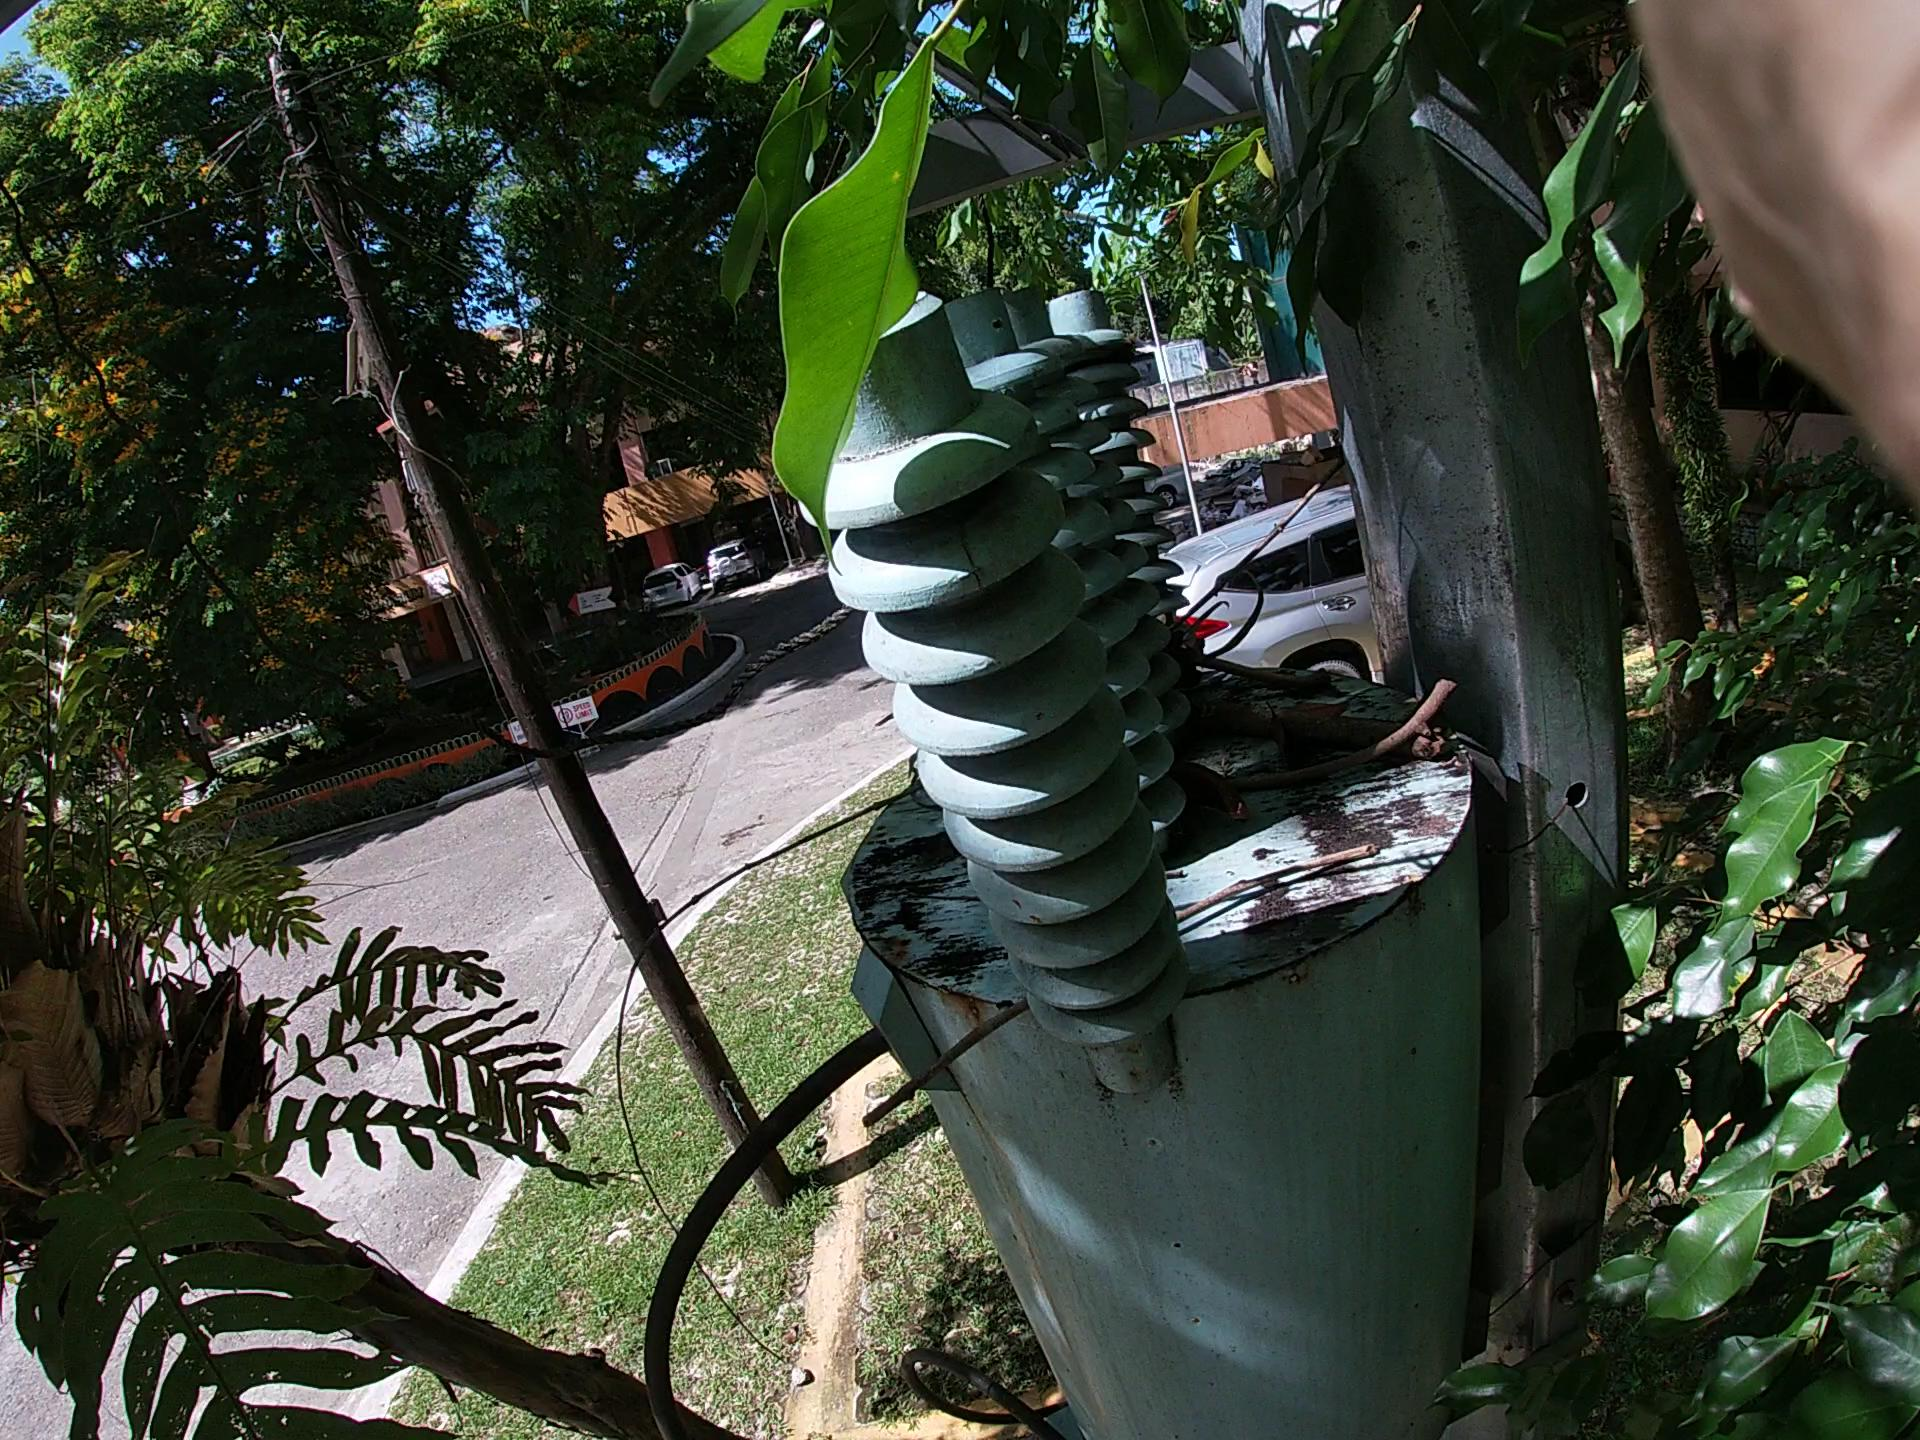leaf: (1184, 587, 1358, 753)
mahogany fruit: (1134, 537, 1279, 702)
tree branch: (581, 590, 1423, 1230), (881, 815, 1497, 1125), (1129, 711, 1463, 877), (1125, 611, 1411, 675)
